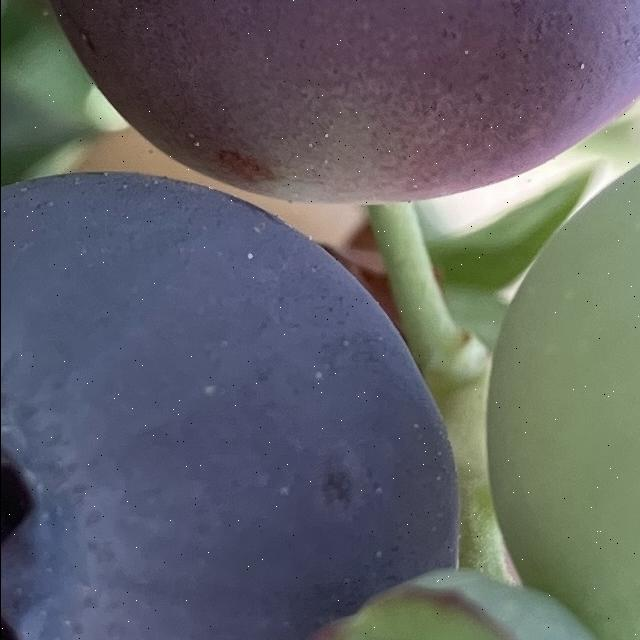Blueberries: (0, 169, 467, 640), (29, 0, 640, 206), (482, 110, 640, 640)
